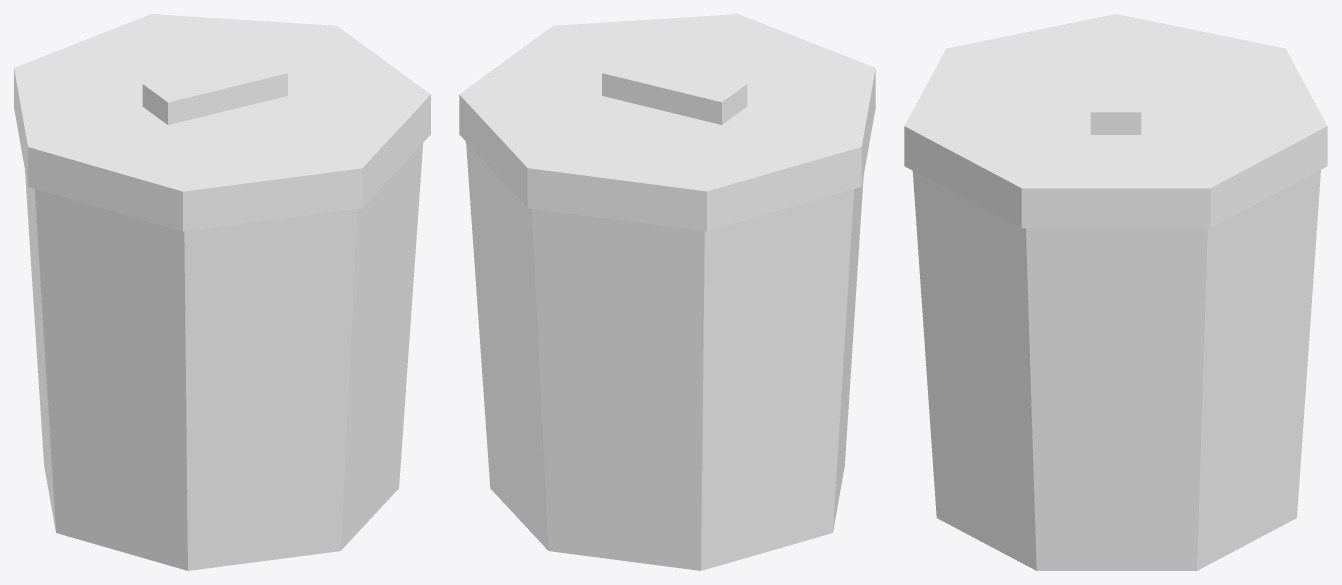
Rendered from trash.glb.
3 views of the same model, side by side, from view 1: azimuth 30°, elevation 25°; view 2: azimuth 150°, elevation 25°; view 3: azimuth 270°, elevation 25° (orthographic).
Visible parts, largest first — view 1: trash(Clone); view 2: trash(Clone); view 3: trash(Clone).
Boxes of the visible parts, x1,y1,x2,y2 form: trash(Clone): (14,14,430,570); trash(Clone): (459,14,875,570); trash(Clone): (904,14,1327,570).
Size of the model in its own units: 0.789 by 0.8809 by 0.8093.
1 material, 1 textured.
